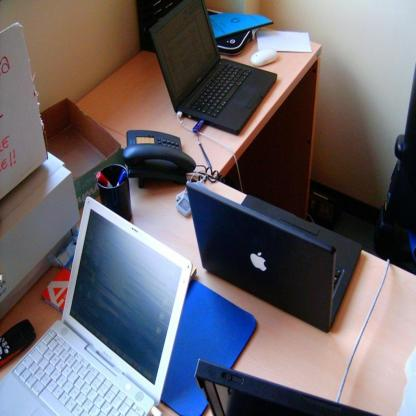board: (10, 195, 183, 416), (187, 182, 363, 331), (150, 0, 278, 132)
